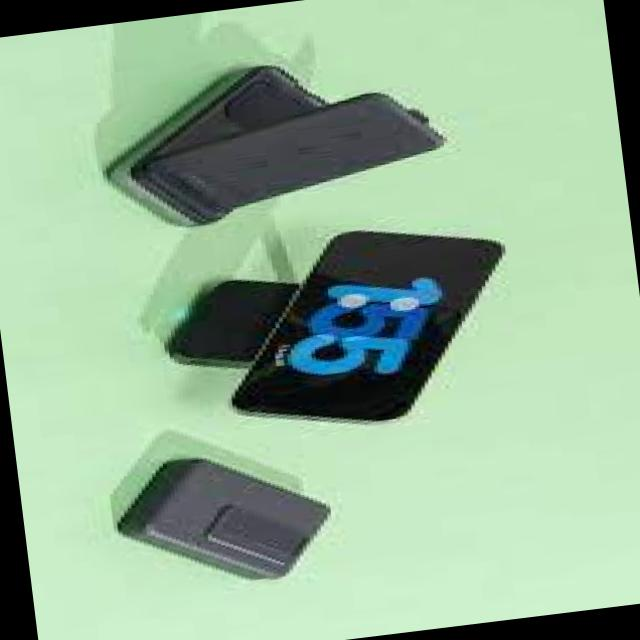power_bank: (106, 437, 337, 599)
